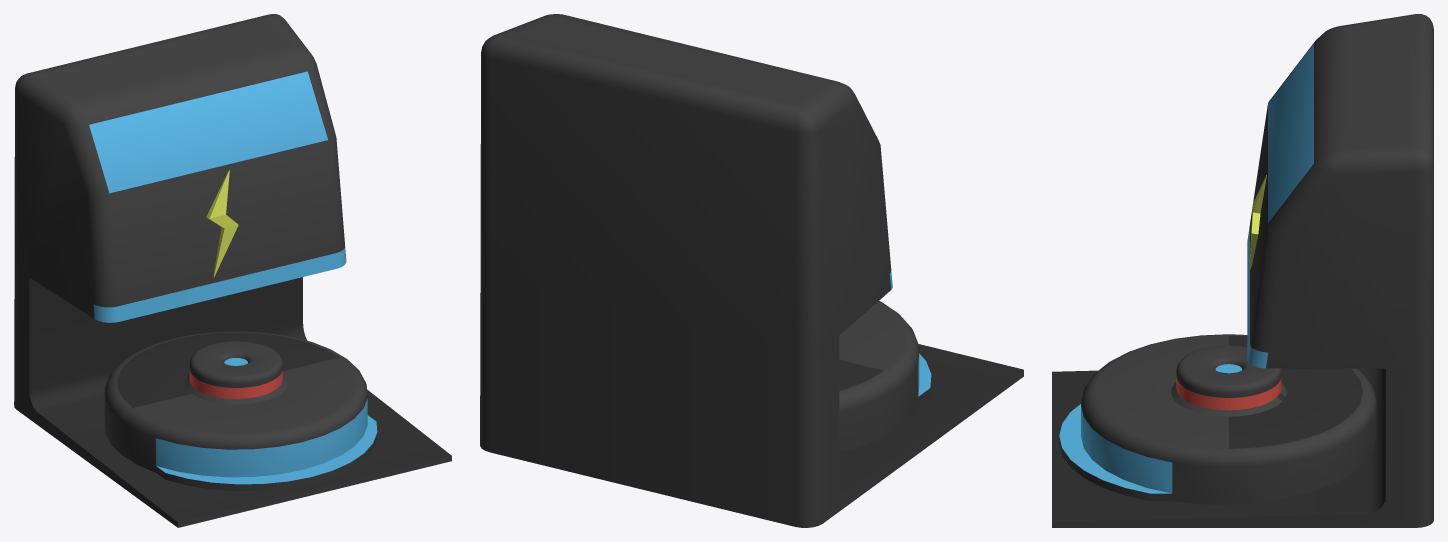
The model's file is supurge.fbx.
3 renders of one model, left to right at view 1: azimuth 30°, elevation 25°; view 2: azimuth 150°, elevation 25°; view 3: azimuth 270°, elevation 25°, orthographic. The views are drawn at different scales.
Visible parts, largest first — view 1: sarj, supurge; view 2: sarj, supurge; view 3: sarj, supurge.
Boxes of the visible parts, left/top/right/bottom form: sarj: left=14, top=14, right=451, bottom=527; supurge: left=104, top=331, right=377, bottom=491; sarj: left=480, top=14, right=1023, bottom=527; supurge: left=839, top=301, right=931, bottom=451; sarj: left=1052, top=14, right=1433, bottom=527; supurge: left=1059, top=334, right=1376, bottom=504.
Size of the model in its own units: 240 by 277 by 258.
